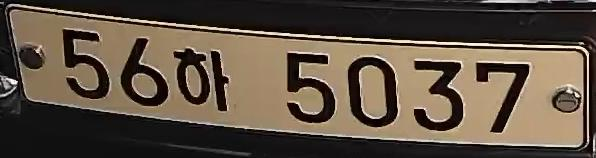0: (341, 53, 407, 130)
3: (407, 54, 470, 135)
5: (279, 45, 342, 125), (54, 23, 118, 101)
6: (116, 33, 172, 109)
7: (472, 55, 536, 139)
하: (171, 41, 239, 117)
